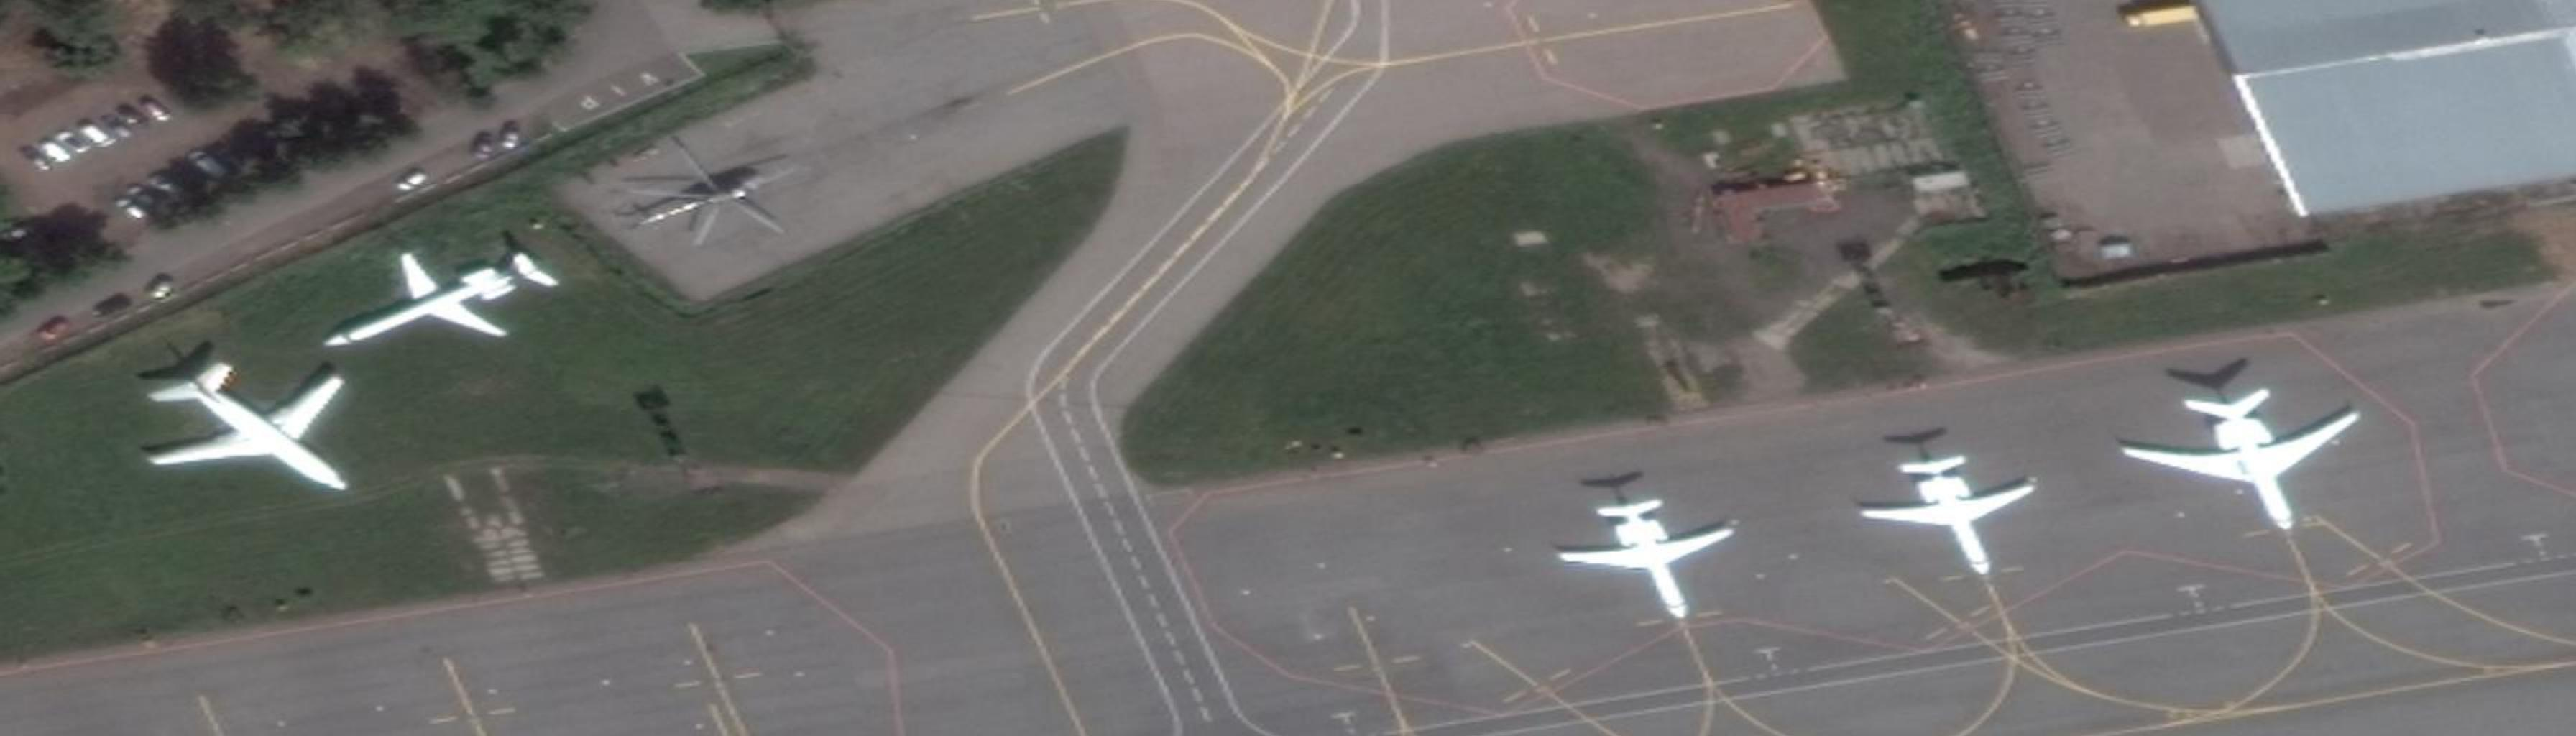plane: (108, 310, 402, 554), (294, 207, 580, 404), (2104, 375, 2397, 540), (1840, 440, 2063, 588), (608, 118, 797, 284), (1541, 485, 1763, 626)
